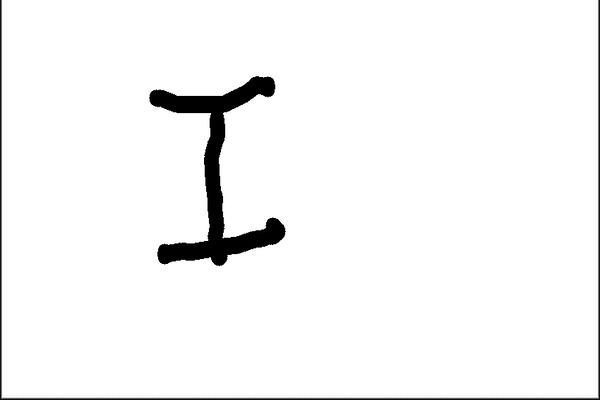i: (144, 71, 290, 275)
